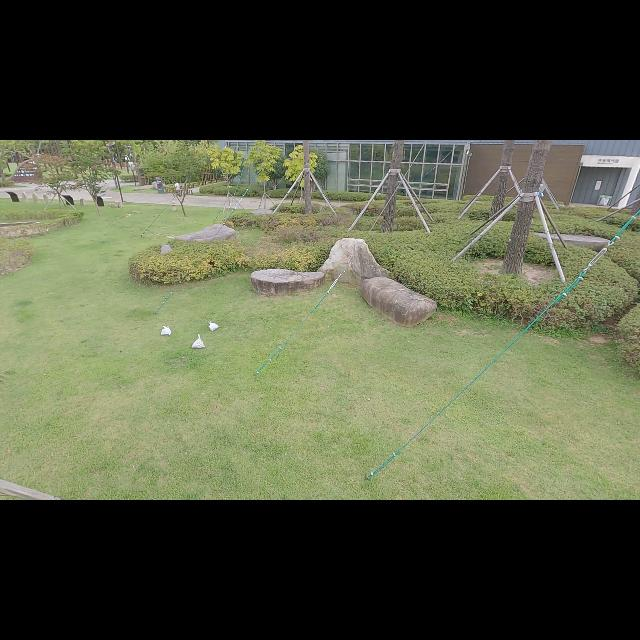trash: (205, 316, 221, 336), (189, 335, 205, 351), (158, 324, 176, 338)
